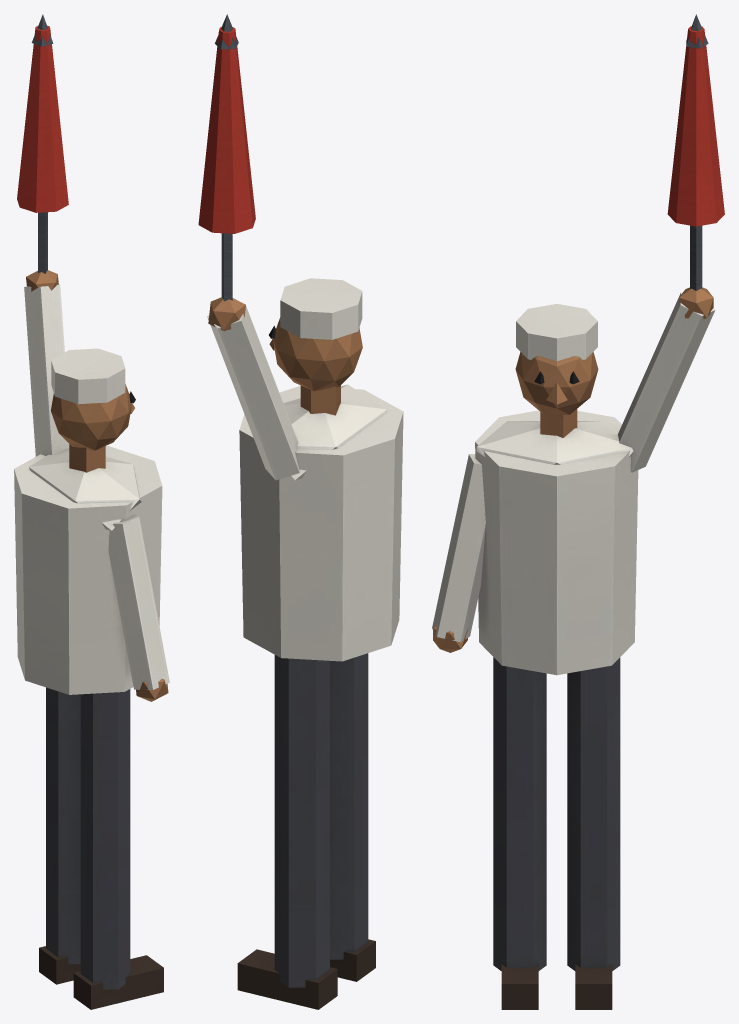
File: guide_paraply_tex.glb
The picture shows the model from 3 angles, left to right: view 1: azimuth 30°, elevation 25°; view 2: azimuth 150°, elevation 25°; view 3: azimuth 270°, elevation 25°; orthographic projection. The views are drawn at different scales.
Parts seen in each view (by area): view 1: guide_paraply; view 2: guide_paraply; view 3: guide_paraply.
Part boxes in pixels (box(x1,y1,x2,y2)): guide_paraply: box(14, 14, 169, 1009); guide_paraply: box(198, 14, 403, 1009); guide_paraply: box(432, 14, 724, 1009).
Size of the model in its own units: 0.4 by 2.64 by 0.7149.
7 materials, 6 textured.
